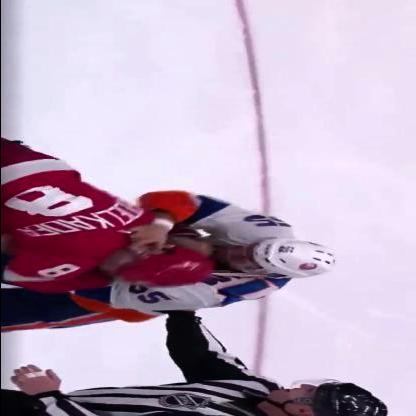voilence: (0, 159, 338, 335)
